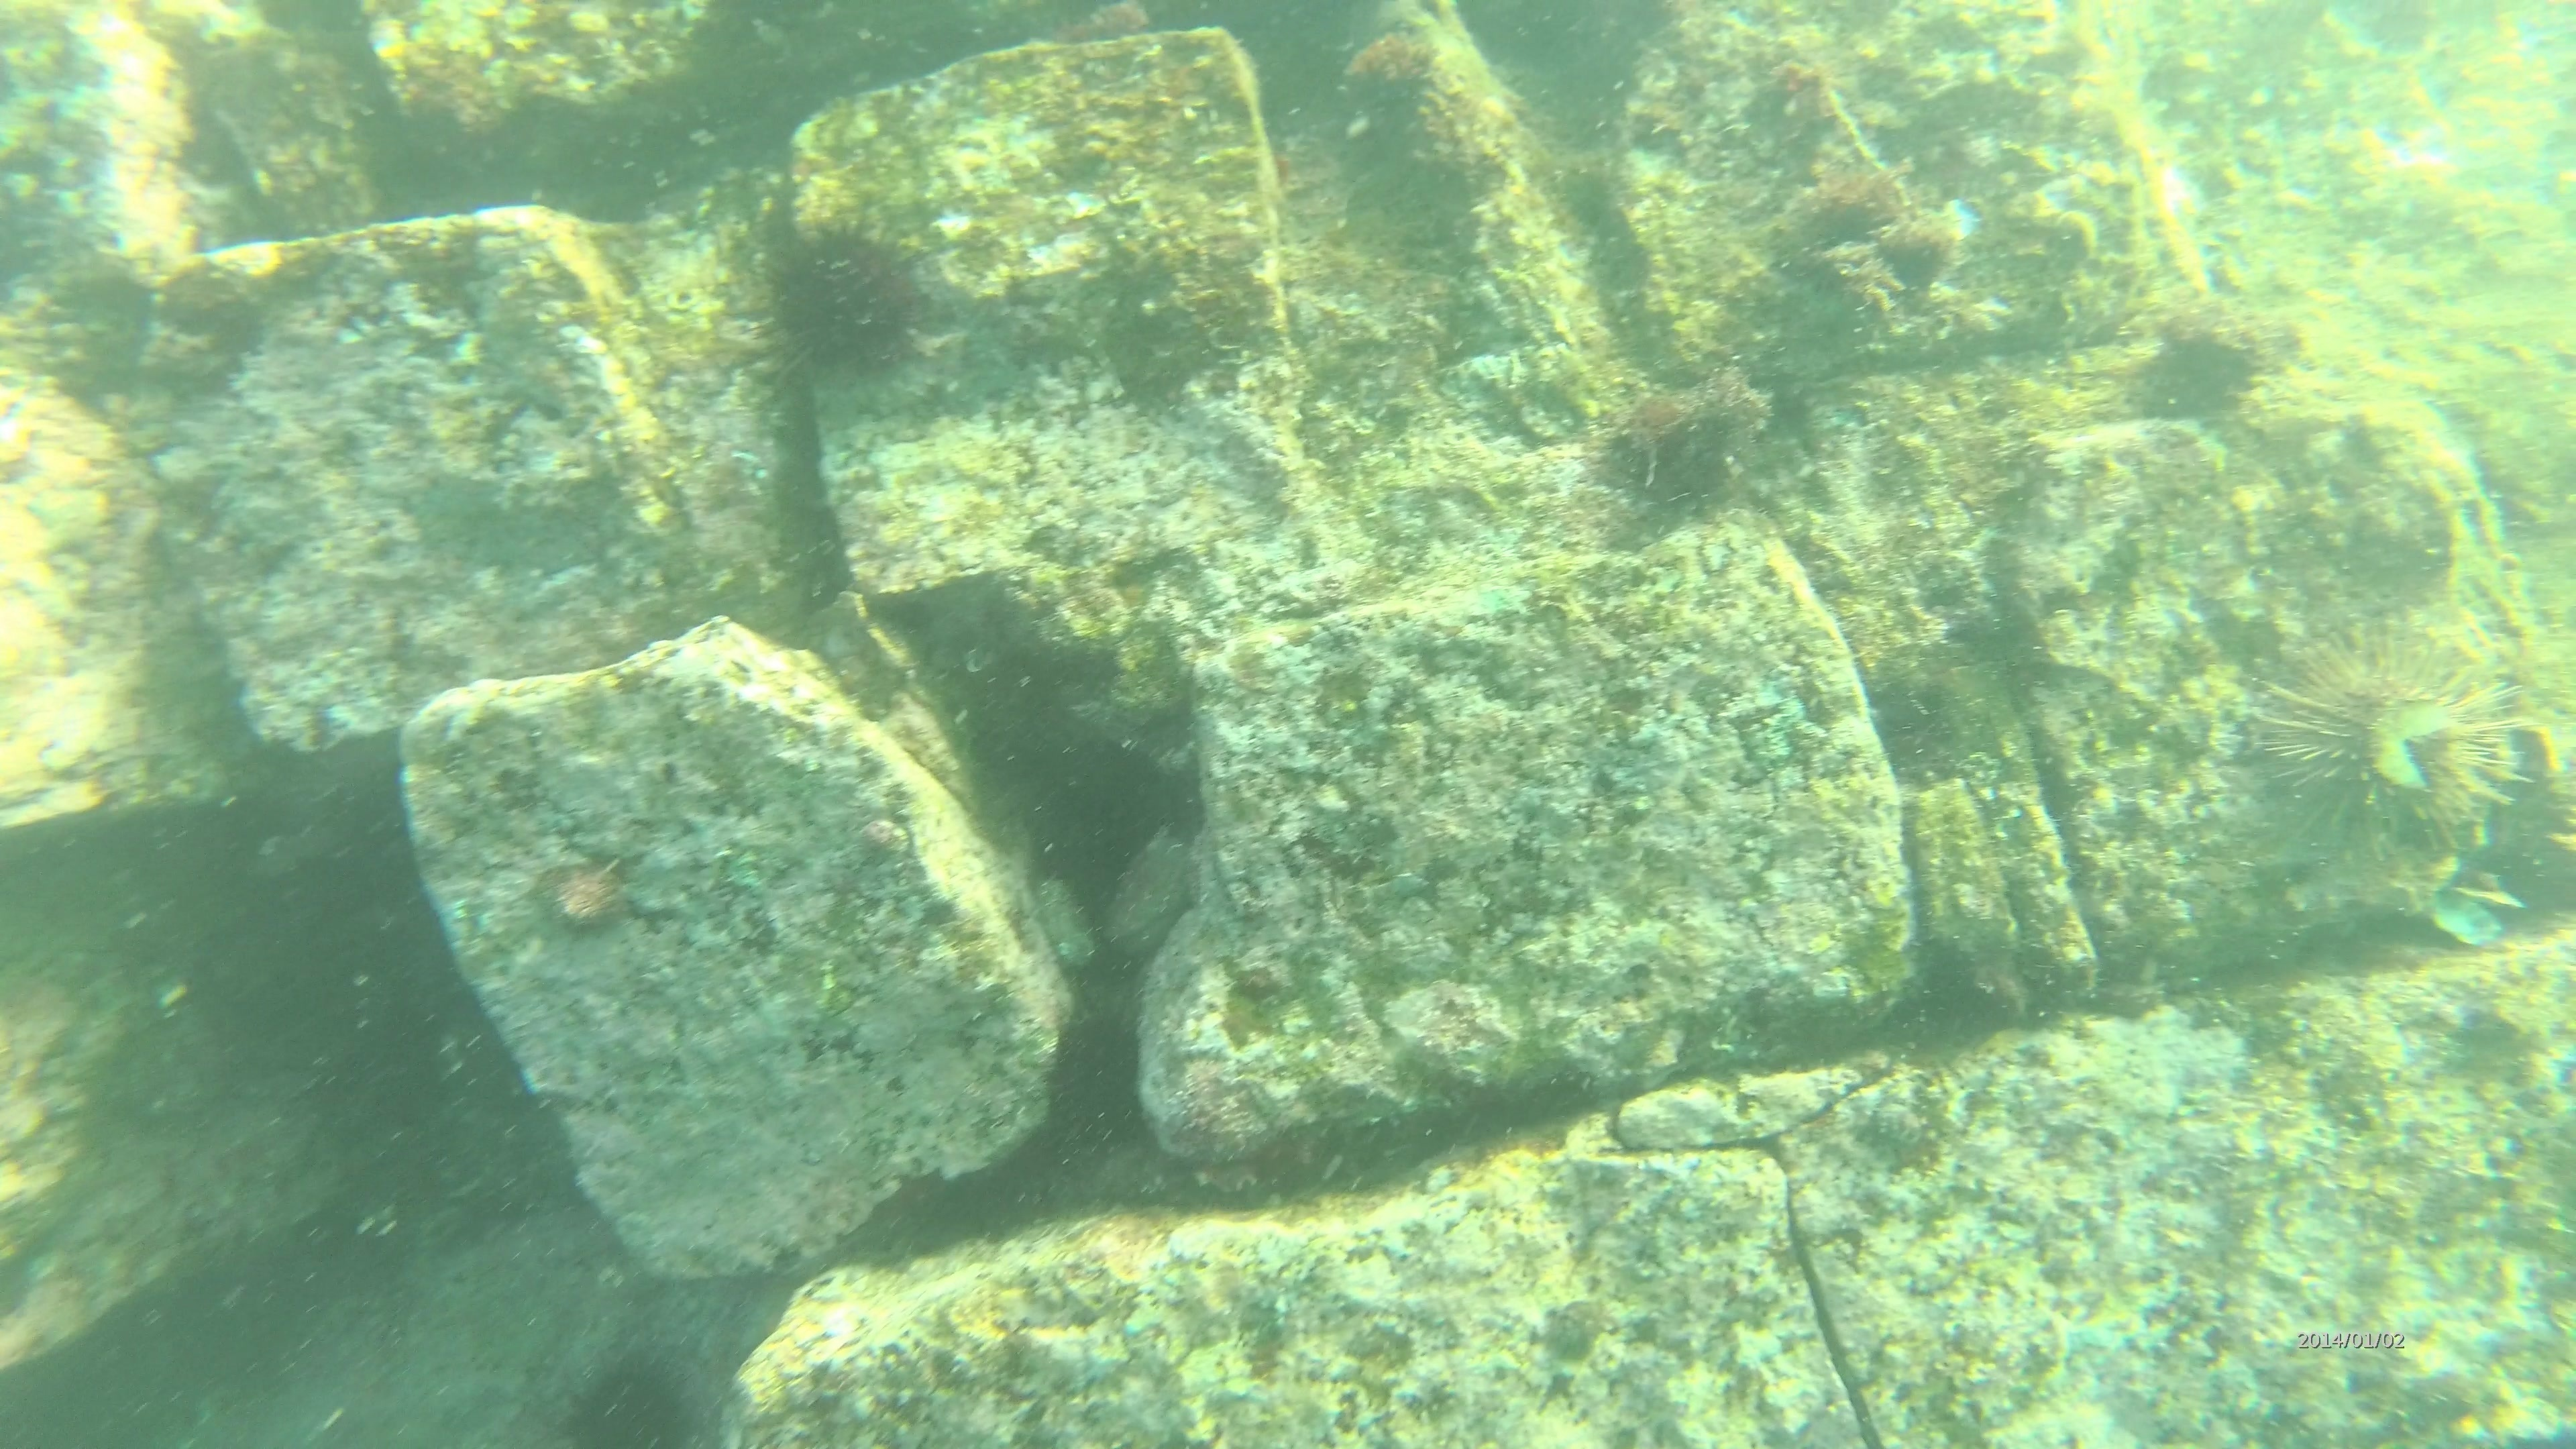echinus: (2245, 623, 2537, 913), (747, 216, 932, 387), (556, 1352, 702, 1444)
